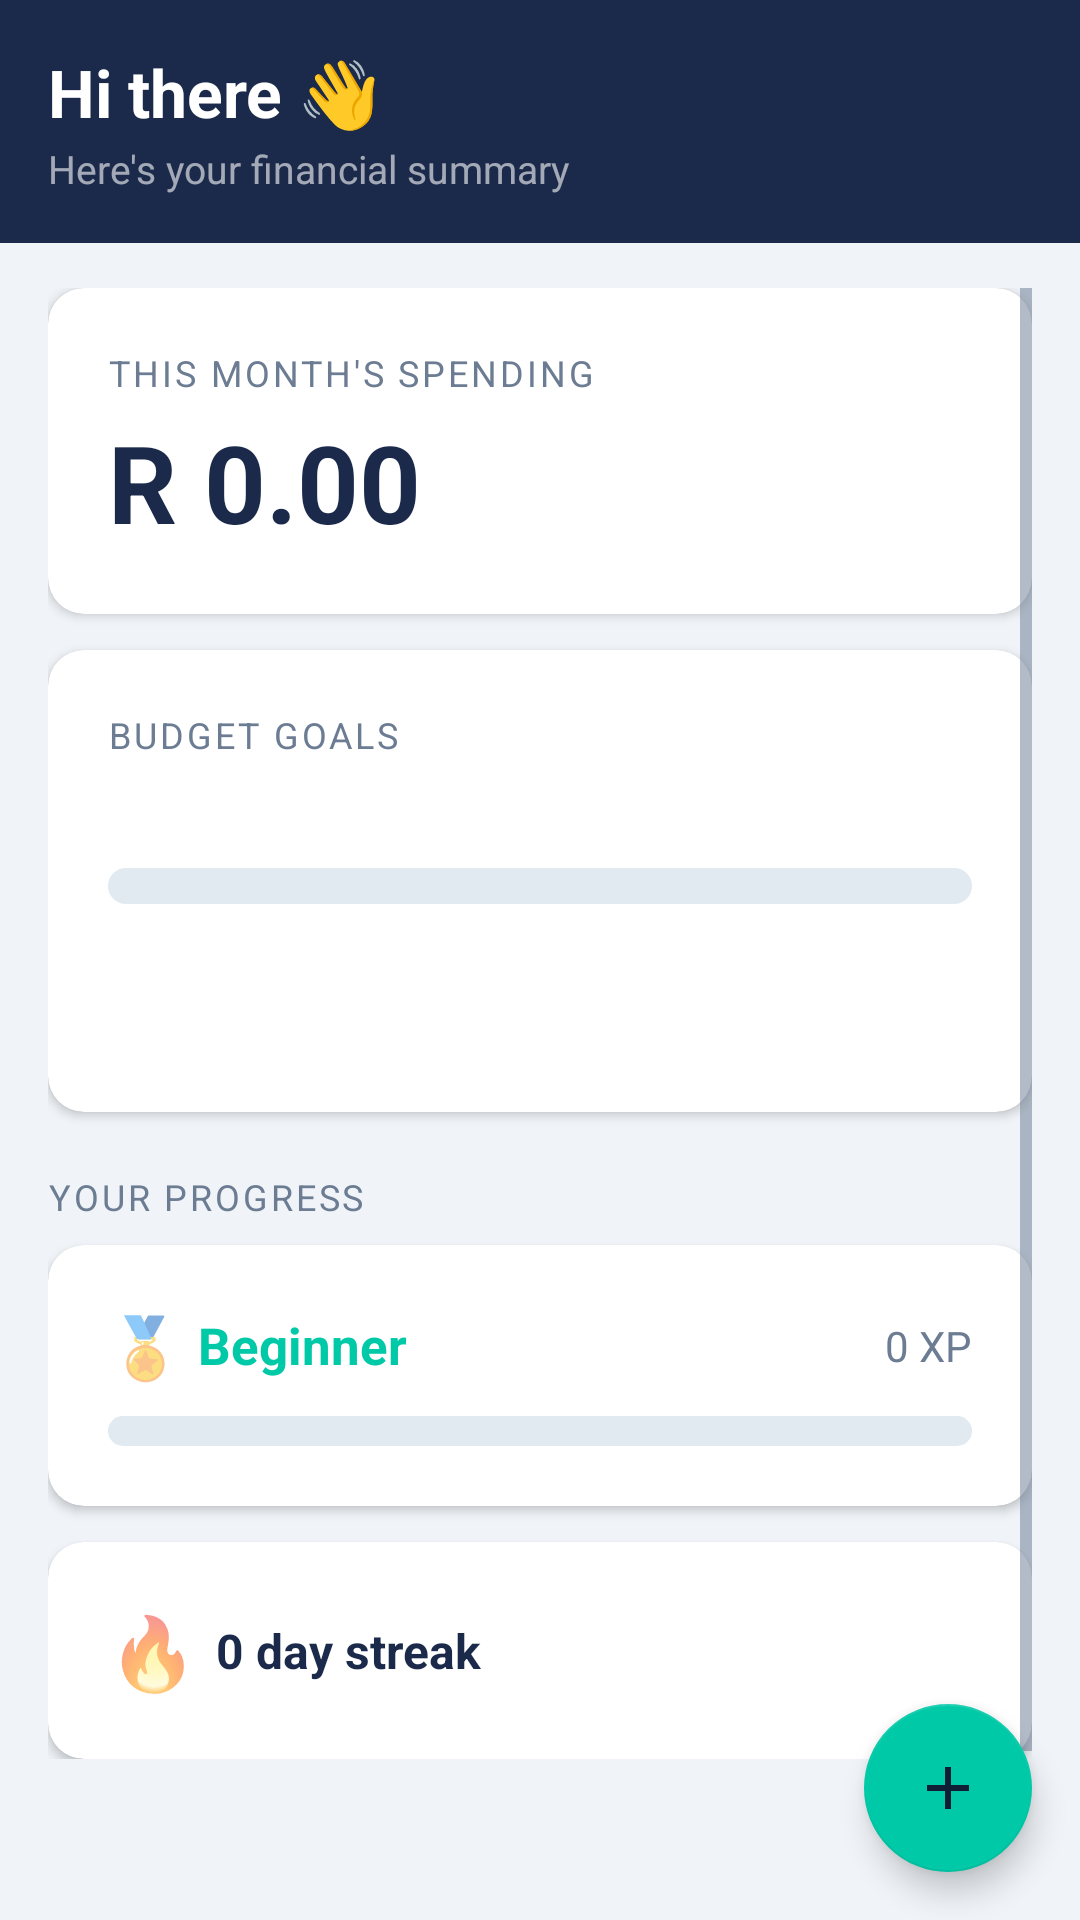

Named icons in this screenshot (1080×1920) and their bounding boxes, (x1, y1, x2, y2):
Add Transaction: (864, 1704, 1032, 1872)
